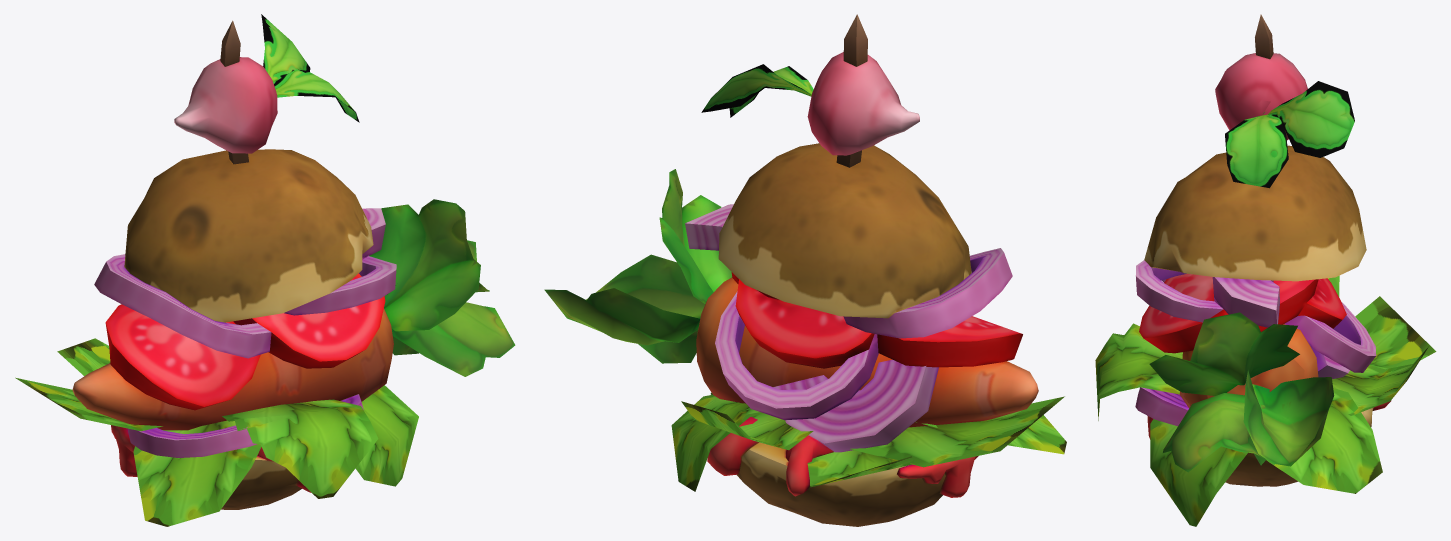
Rendered from obj_consumable_carrotburger.fbx.
The picture shows the model from 3 angles, left to right: view 1: azimuth 30°, elevation 25°; view 2: azimuth 150°, elevation 25°; view 3: azimuth 270°, elevation 25°; orthographic projection. The views are drawn at different scales.
Parts seen in each view (by area): view 1: char_carrotburger_01; view 2: char_carrotburger_01; view 3: char_carrotburger_01.
Part boxes in pixels (<box>): char_carrotburger_01: <box>15,14,515,526</box>; char_carrotburger_01: <box>544,14,1066,526</box>; char_carrotburger_01: <box>1095,14,1436,526</box>.
Bounding box in the file's own units: 2.06 × 2.11 × 1.41.
